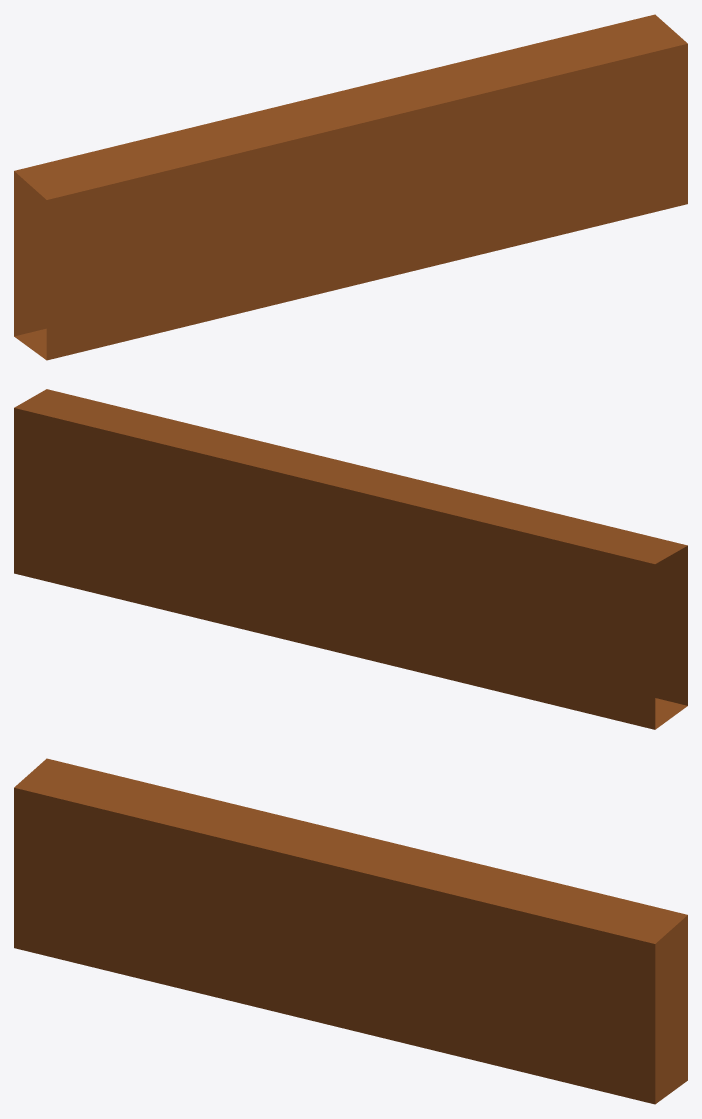
Rendered from wandbalken_end.FBX.
3 views of the same model, one above another, from view 1: azimuth 30°, elevation 25°; view 2: azimuth 150°, elevation 25°; view 3: azimuth 330°, elevation 25° (orthographic).
Parts seen in each view (by area): view 1: wandbalken_end; view 2: wandbalken_end; view 3: wandbalken_end.
Part boxes in pixels (x1,y1,x2,y2): wandbalken_end: [14, 14, 687, 360]; wandbalken_end: [14, 389, 687, 729]; wandbalken_end: [14, 758, 687, 1104].
Bounding box in the file's own units: 7.9 × 1.95 × 0.7.
